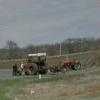Tractor: (8, 40, 82, 93)
